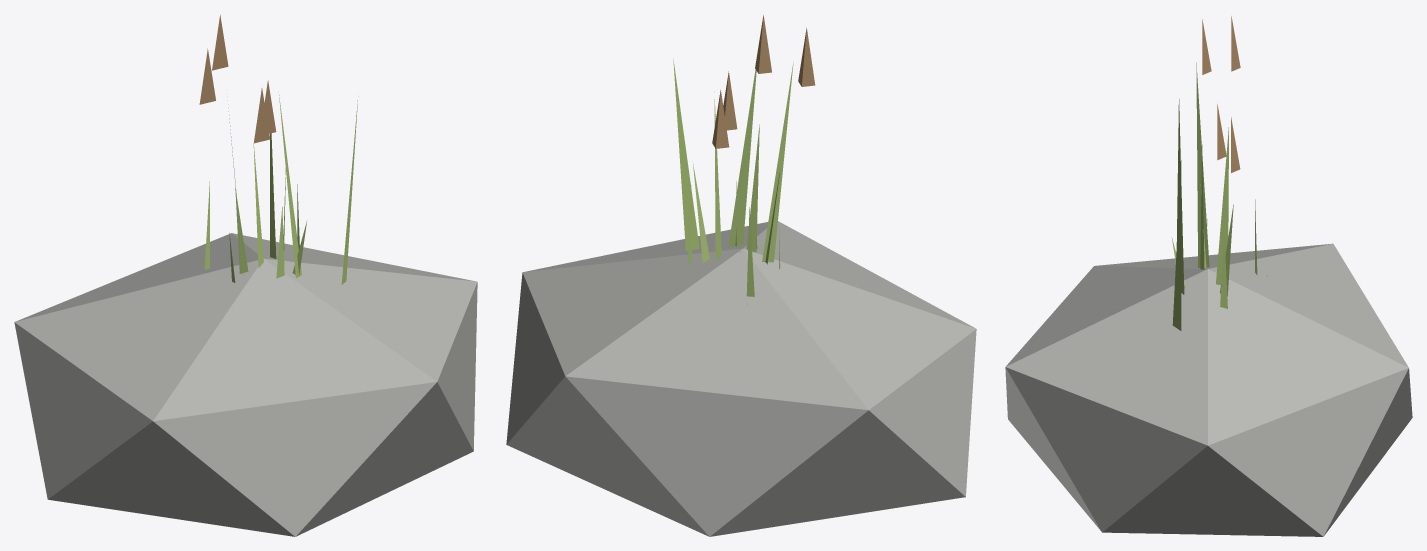
File: nature_kit.glb
The picture shows the model from 3 angles, left to right: view 1: azimuth 30°, elevation 25°; view 2: azimuth 150°, elevation 25°; view 3: azimuth 270°, elevation 25°; orthographic projection. The views are drawn at different scales.
Parts seen in each view (by area): view 1: bank_rock_b, bank_reed; view 2: bank_rock_b, bank_reed; view 3: bank_rock_b, bank_reed.
Part boxes in pixels (bbox=[...]): bank_rock_b: bbox=[14, 233, 477, 536]; bank_reed: bbox=[199, 14, 358, 284]; bank_rock_b: bbox=[506, 221, 976, 536]; bank_reed: bbox=[673, 15, 815, 296]; bank_rock_b: bbox=[1005, 243, 1412, 536]; bank_reed: bbox=[1171, 16, 1257, 330].
Size of the model in its own units: 1.81 by 2.07 by 1.51.
